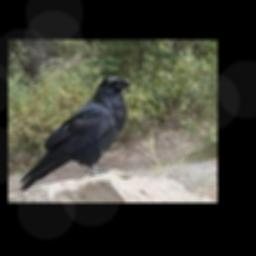Crow: (20, 76, 132, 192)
